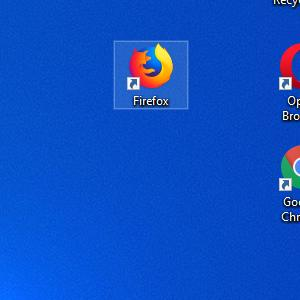firefox: (126, 41, 174, 91)
